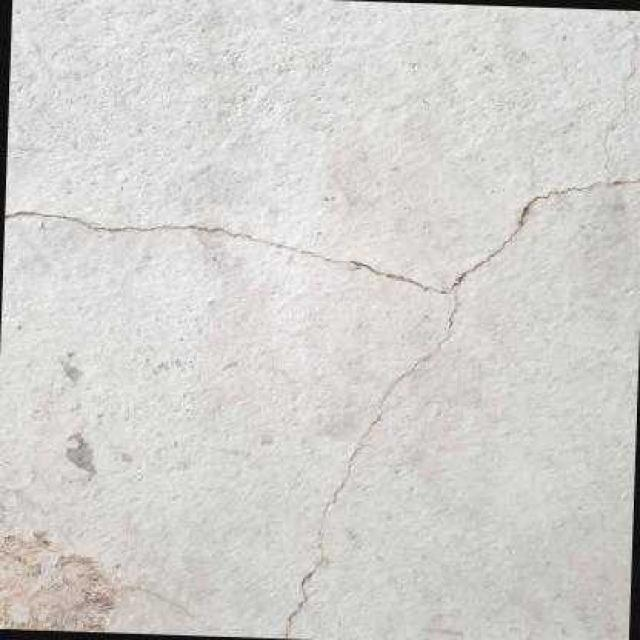D00: (3, 175, 640, 639)
